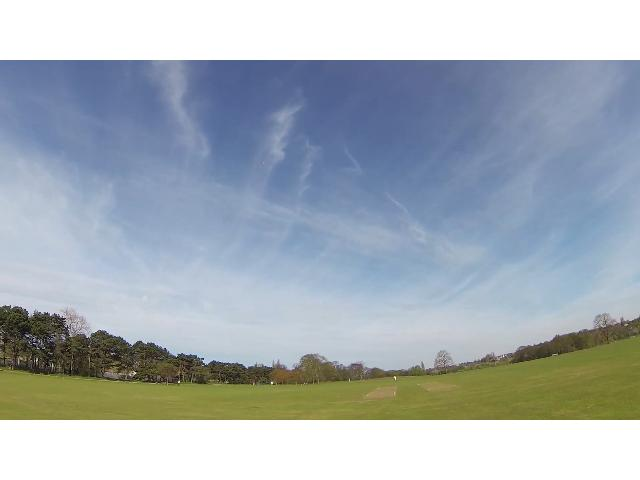Anti-Drone: (258, 156, 270, 168)
